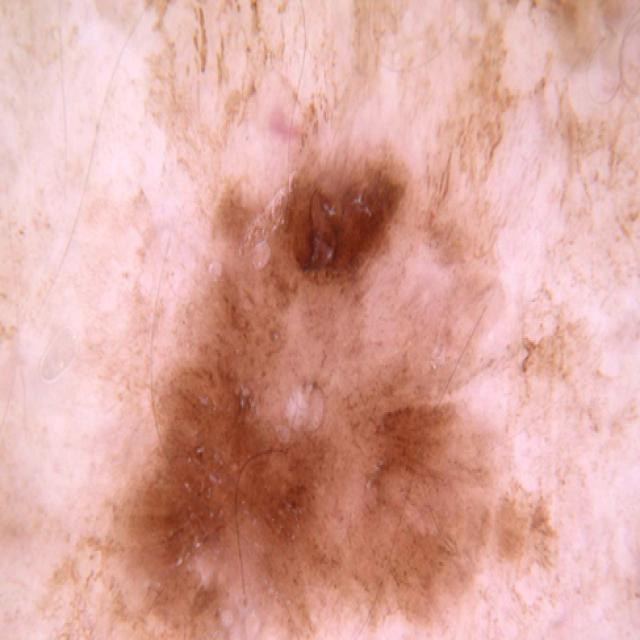Carcinoma: (123, 288, 518, 624), (267, 146, 458, 268)
